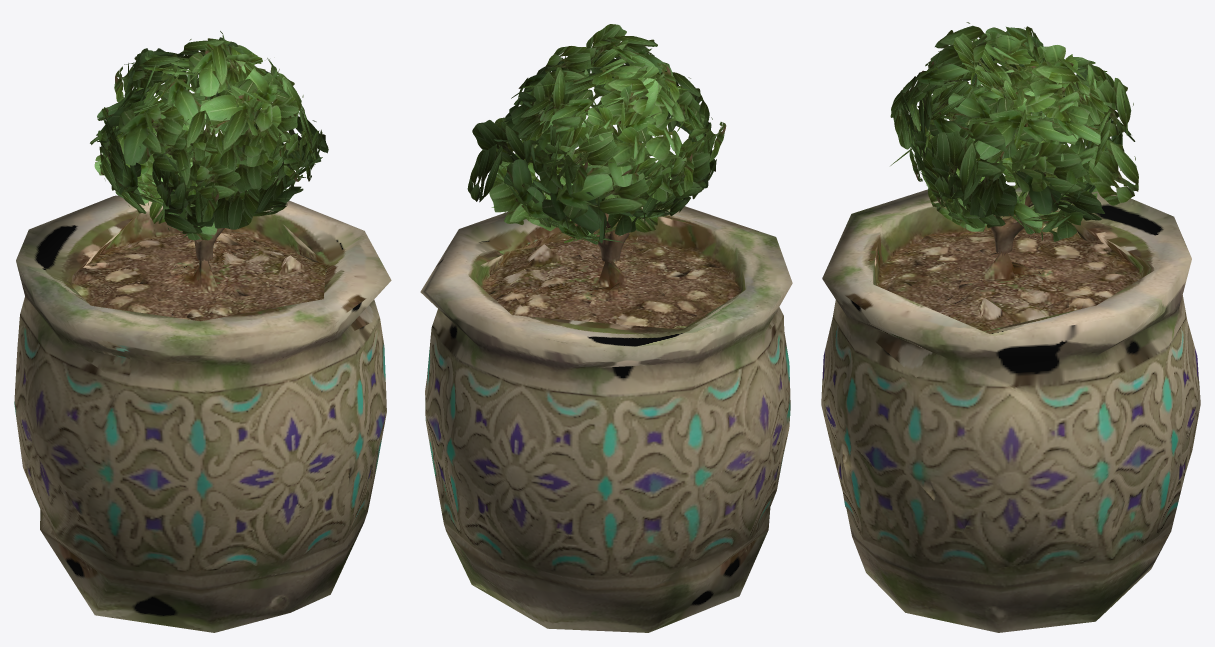
File: Ornate_Bonsai_in_a_Ca.fbx
The picture shows the model from 3 angles, left to right: view 1: azimuth 30°, elevation 25°; view 2: azimuth 150°, elevation 25°; view 3: azimuth 270°, elevation 25°; orthographic projection. The views are drawn at different scales.
Visible parts, largest first — view 1: Ornate_Bonsai_in_a_Ca_LOD0; view 2: Ornate_Bonsai_in_a_Ca_LOD0; view 3: Ornate_Bonsai_in_a_Ca_LOD0.
Part boxes in pixels (<box>): Ornate_Bonsai_in_a_Ca_LOD0: <box>14,31,391,632</box>; Ornate_Bonsai_in_a_Ca_LOD0: <box>420,24,792,632</box>; Ornate_Bonsai_in_a_Ca_LOD0: <box>821,22,1200,632</box>.
Size of what is drawn, in the model's own units: 1.15 by 1.85 by 1.15.
Materials: 2 (2 with a texture image).
